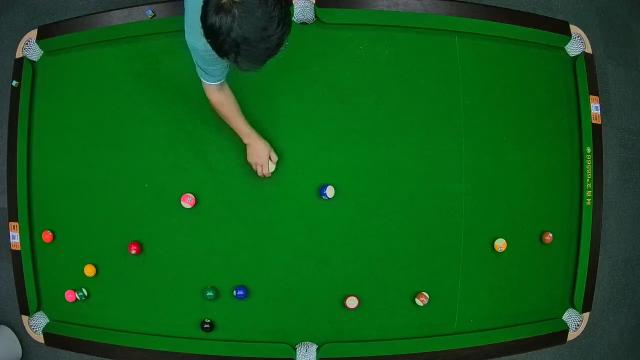bag1: (20, 40, 40, 60)
bag2: (292, 1, 318, 28)
bag3: (565, 32, 587, 57)
bag4: (30, 310, 48, 334)
bag5: (294, 340, 318, 360)
bag6: (562, 308, 582, 332)
ball1: (84, 262, 96, 278)
ball10: (319, 184, 335, 200)
ball11: (344, 294, 360, 310)
ball12: (180, 193, 196, 209)
ball14: (75, 286, 88, 300)
ball15: (416, 290, 430, 306)
ball2: (234, 284, 248, 300)
ball3: (128, 240, 140, 255)
ball4: (65, 289, 77, 303)
ball5: (41, 230, 54, 244)
ball6: (202, 286, 218, 300)
ball7: (540, 229, 554, 244)
ball8: (200, 318, 216, 332)
ball9: (492, 238, 508, 254)
